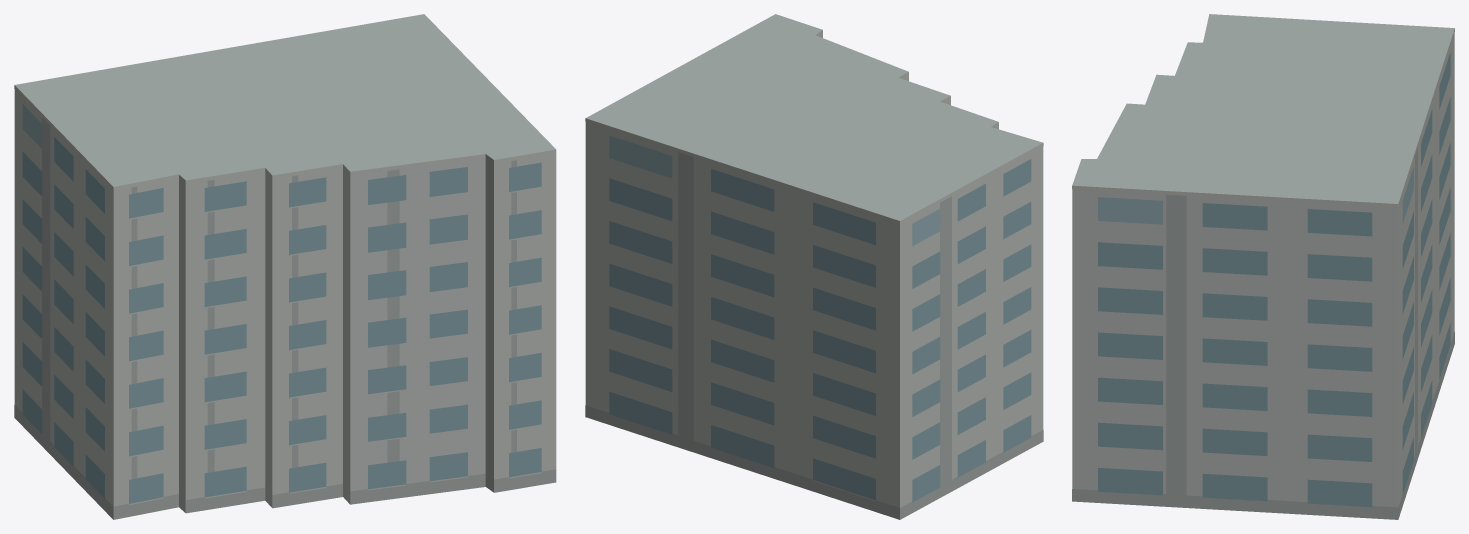
The model's file is survey-upis-32902054.glb.
The picture shows the model from 3 angles, left to right: view 1: azimuth 30°, elevation 25°; view 2: azimuth 150°, elevation 25°; view 3: azimuth 270°, elevation 25°; orthographic projection. The views are drawn at different scales.
Parts seen in each view (by area): view 1: survey-upis-32902054.tmp; view 2: survey-upis-32902054.tmp; view 3: survey-upis-32902054.tmp.
Part boxes in pixels (box(x1,y1,x2,y2)): survey-upis-32902054.tmp: box(14, 14, 556, 519); survey-upis-32902054.tmp: box(585, 14, 1043, 519); survey-upis-32902054.tmp: box(1072, 14, 1454, 519).
Bounding box in the file's own units: 26.33 × 20.4 × 22.41.
